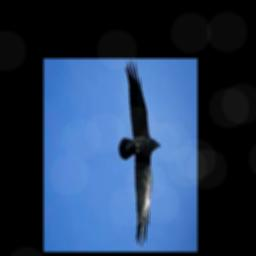Crow: (118, 58, 160, 245)
